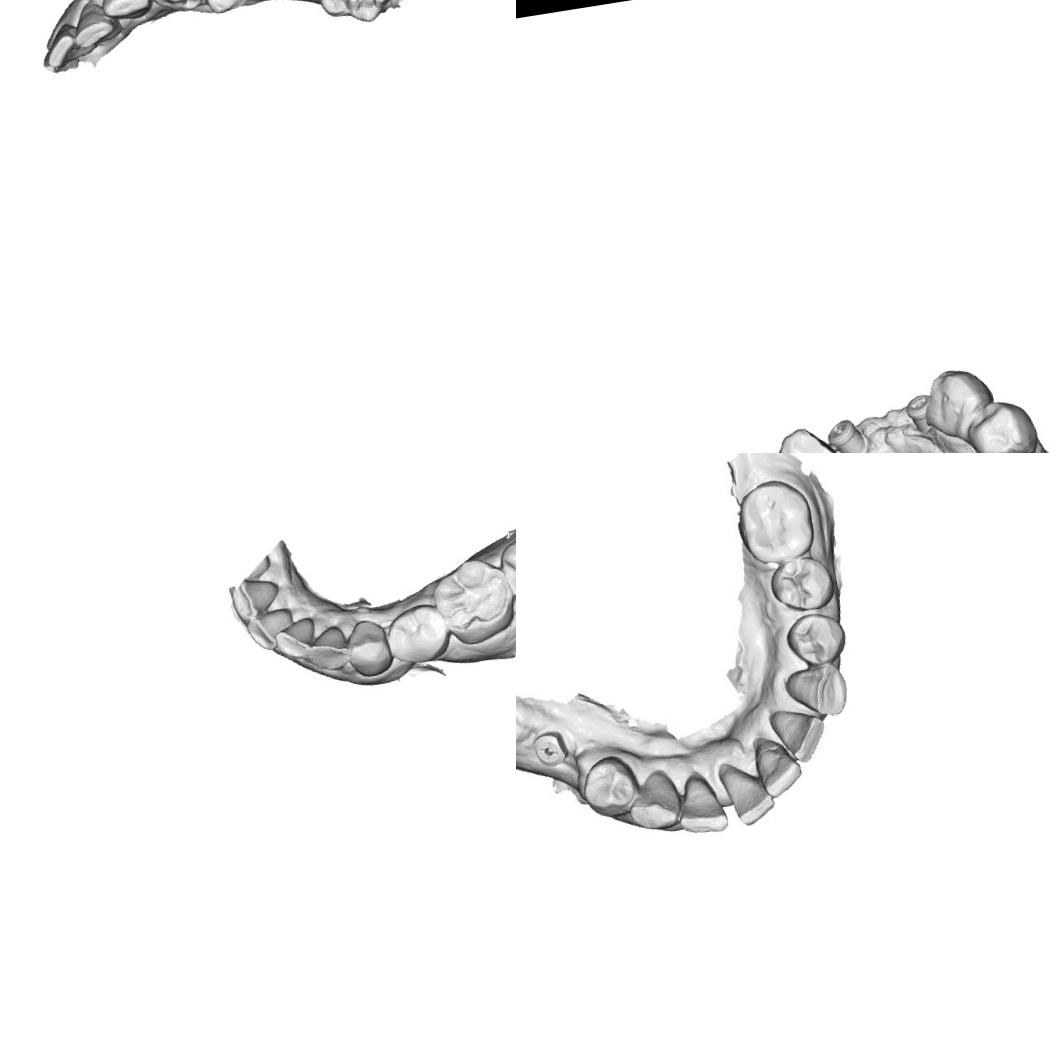canine: (782, 660, 852, 725), (622, 766, 686, 836), (304, 623, 350, 674), (93, 0, 155, 25)
implant: (827, 414, 869, 453)
implant_minus: (900, 392, 932, 424)
implant_plus: (524, 723, 574, 771)
incisor: (714, 752, 781, 831), (668, 764, 732, 841), (770, 700, 832, 769), (752, 732, 808, 803), (224, 574, 284, 626), (38, 20, 96, 73), (243, 606, 299, 654), (69, 0, 123, 48), (270, 614, 320, 664)
molar: (730, 472, 819, 570), (427, 553, 516, 649), (309, 0, 402, 30), (494, 518, 516, 619)
premolar: (922, 362, 1000, 440), (764, 550, 843, 620), (381, 600, 454, 668), (780, 607, 854, 674), (962, 393, 1042, 453), (575, 752, 643, 822), (342, 616, 396, 681), (770, 422, 839, 453), (193, 0, 254, 17), (144, 0, 205, 17)
